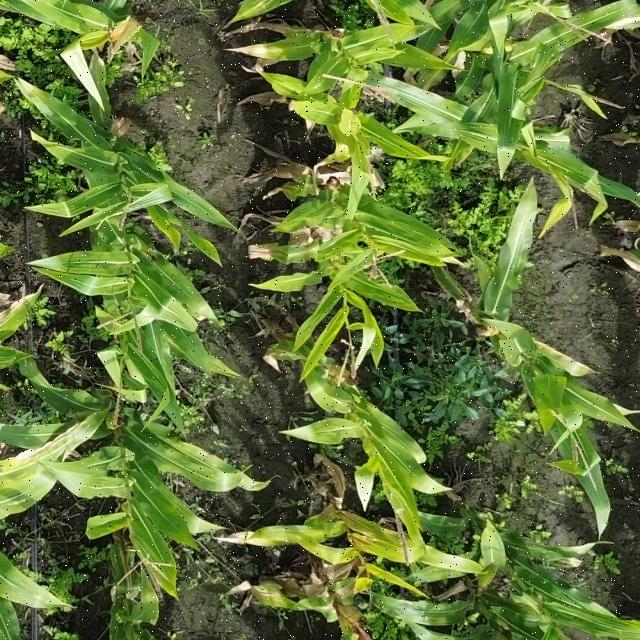gray-leaf-spot: (10, 575, 51, 609), (364, 281, 411, 304), (18, 356, 44, 384), (242, 0, 289, 15)
northern-leaf-blight: (258, 587, 332, 618), (110, 541, 141, 603), (262, 245, 312, 261), (334, 580, 362, 603)
